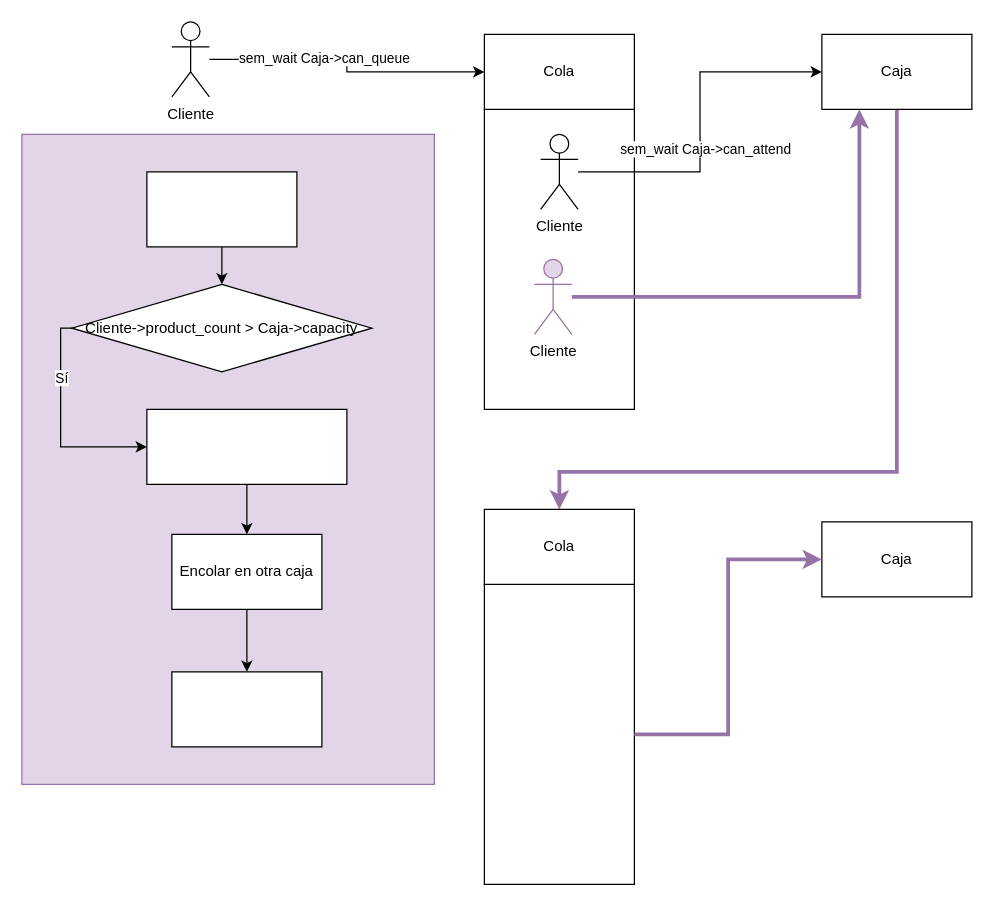
Some shapes in this 994 by 906 pixel diagram are drawn without their labels. The centre of each missing label's shape, as x and y in pixels:
"atenderse en caja" belongs at (221,209).
"atenderse en nueva caja" belongs at (246,709).
"quitar Caja->capacity de Cliente->product_count" belongs at (246,446).
